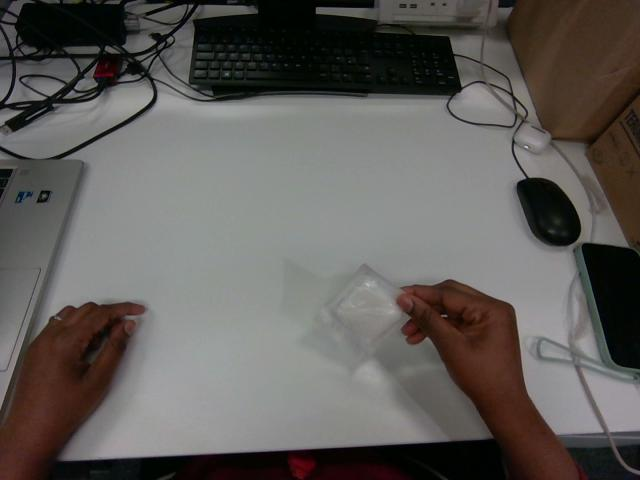gauze: (317, 264, 408, 354)
